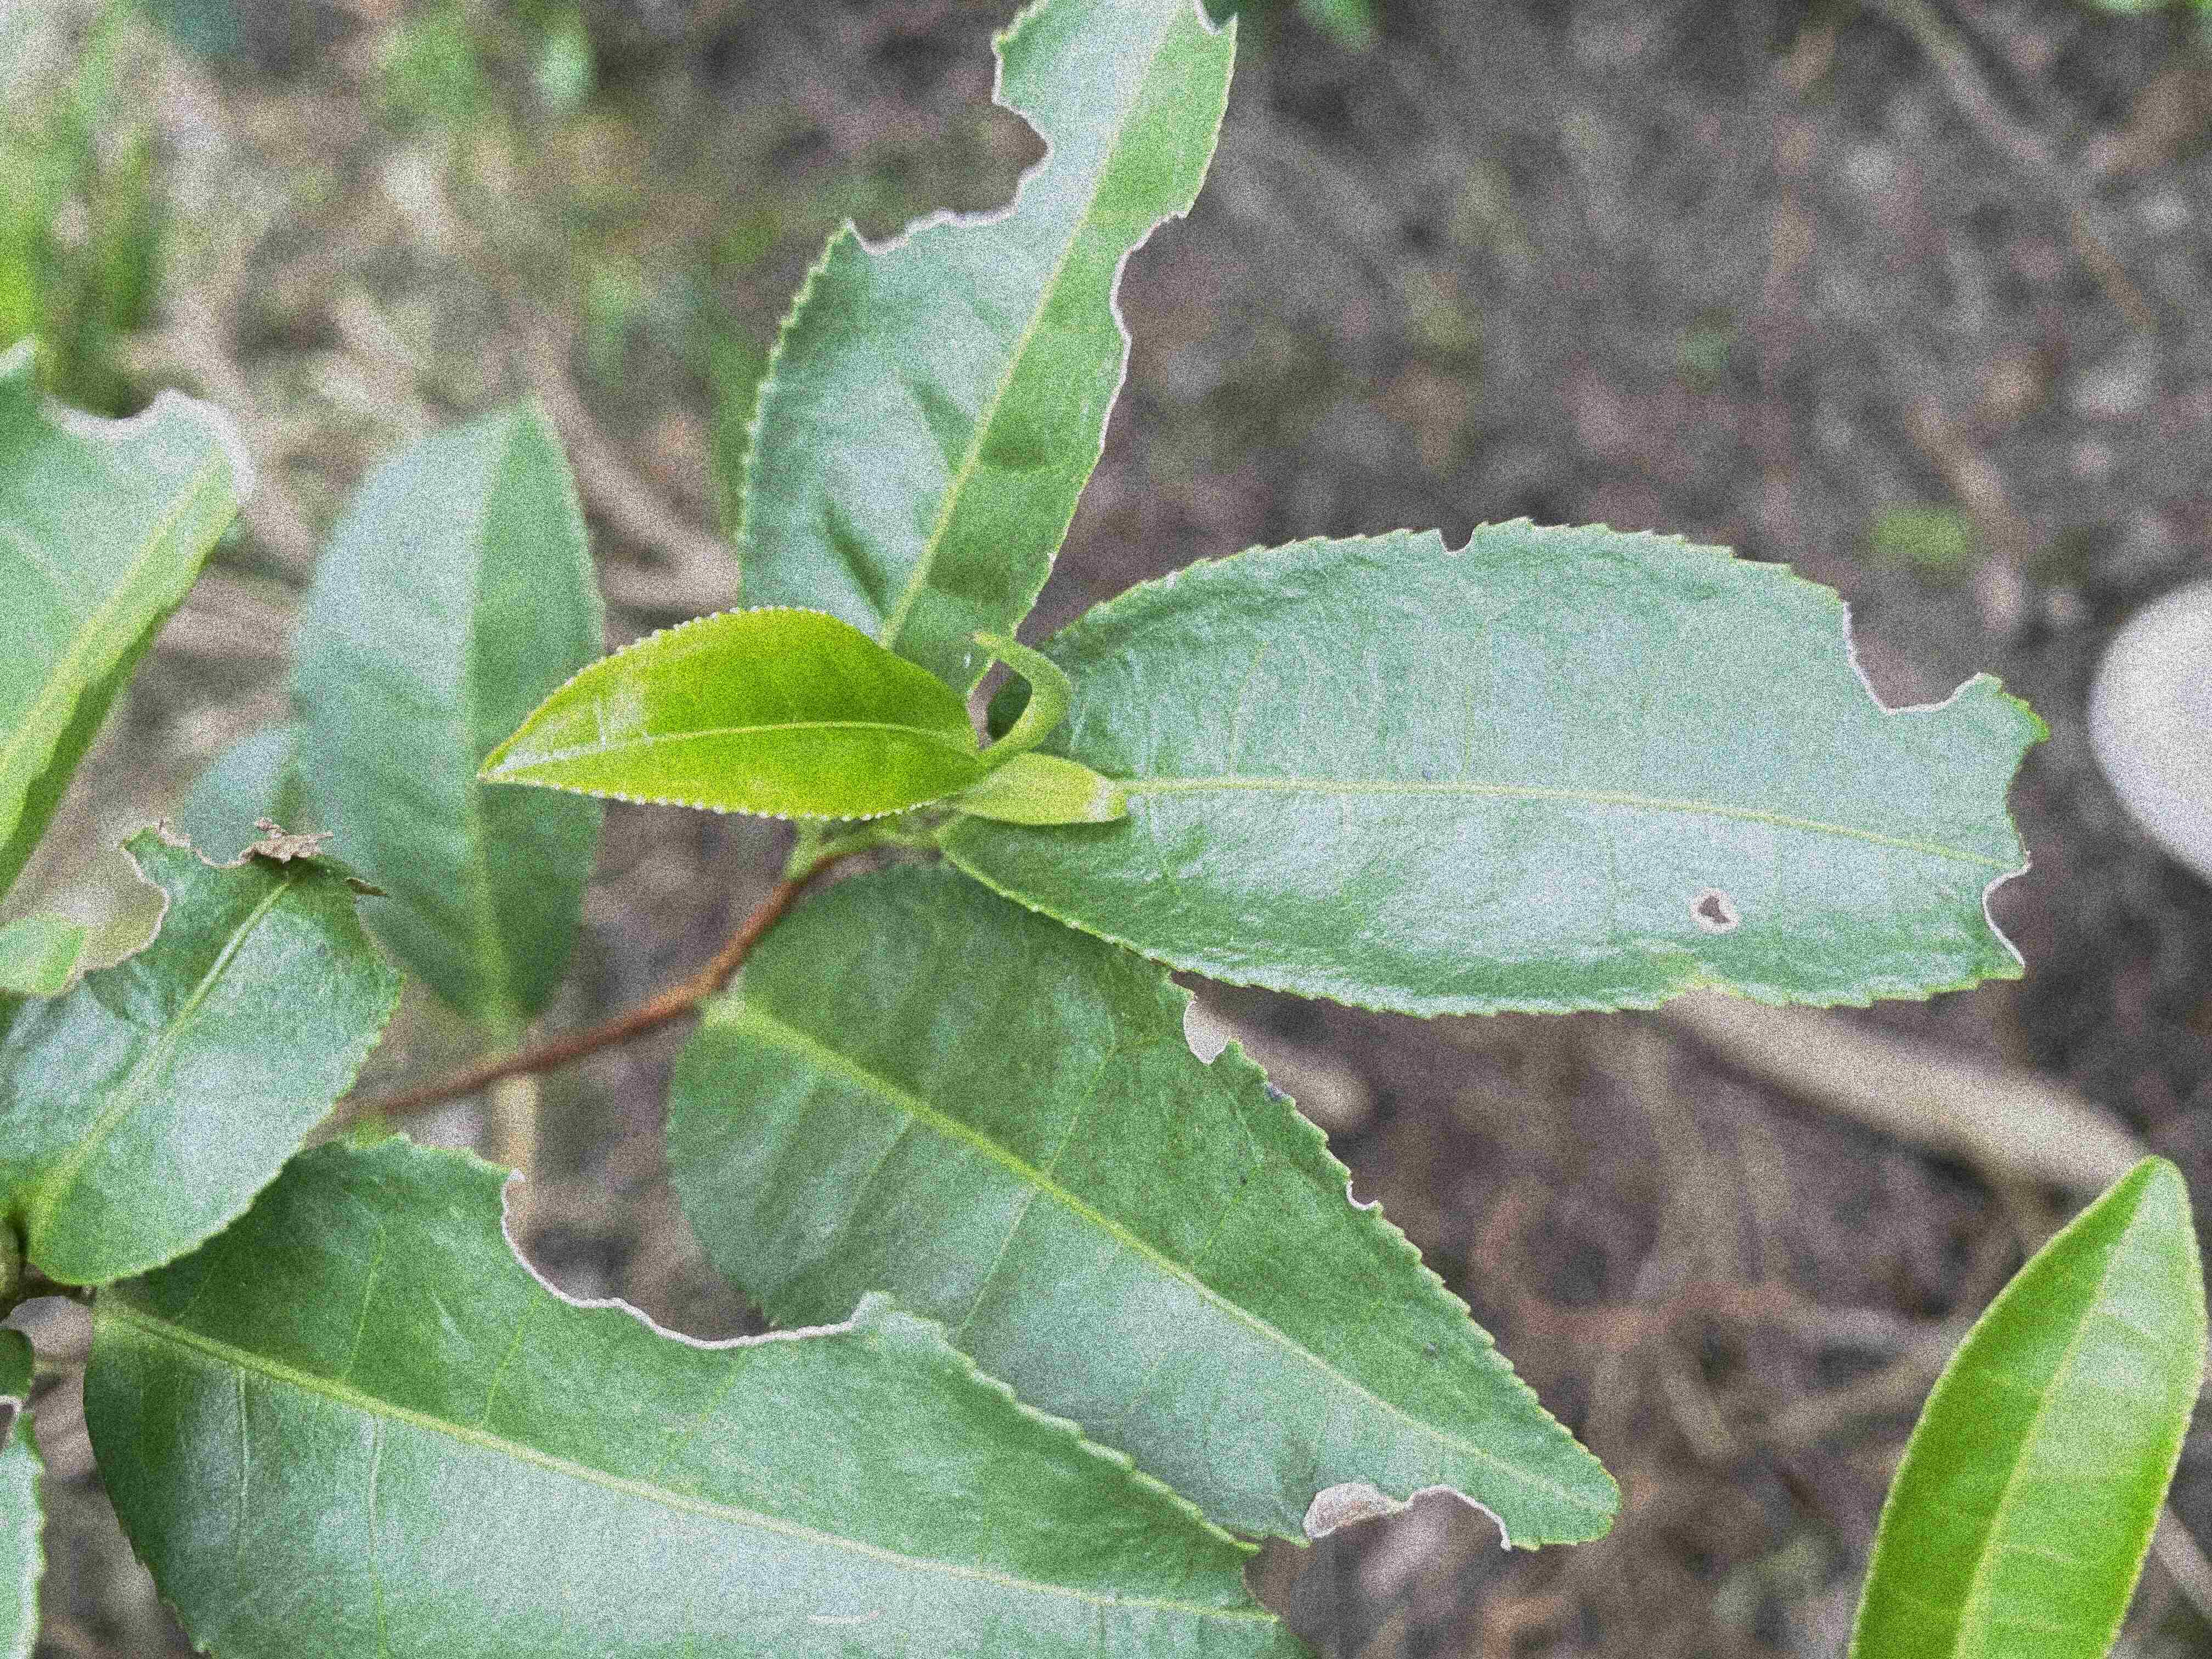chihuo_high: (662, 859, 1622, 1549), (78, 1138, 1315, 1650), (937, 514, 2052, 1019), (735, 2, 1244, 697), (3, 812, 409, 1288)
healthy: (1846, 1155, 2207, 1656), (472, 601, 989, 823)
